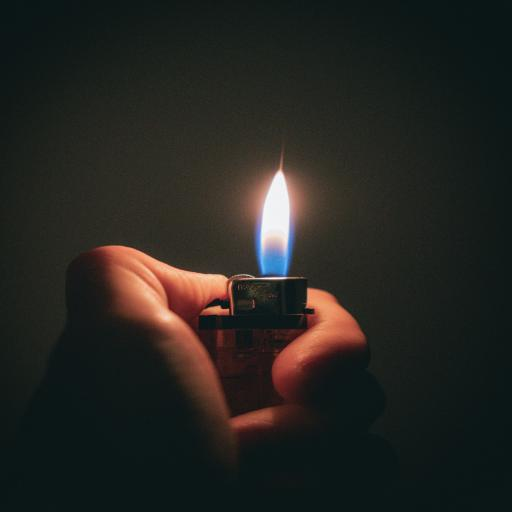lighter: (177, 149, 351, 401)
